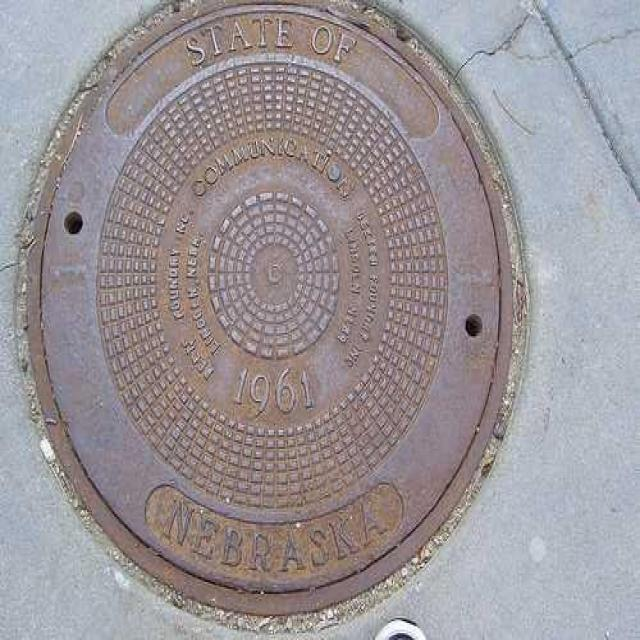manhole: (21, 3, 525, 617)
